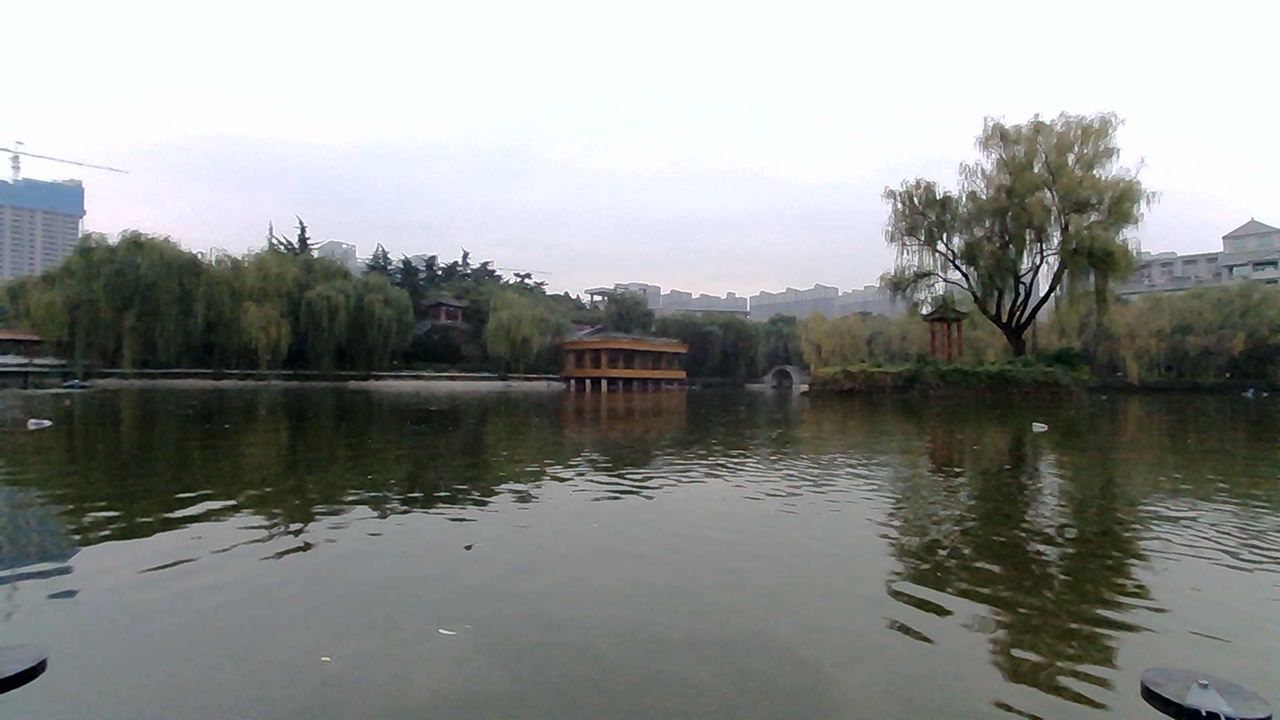bottle: (1012, 406, 1067, 438), (14, 400, 63, 434)
